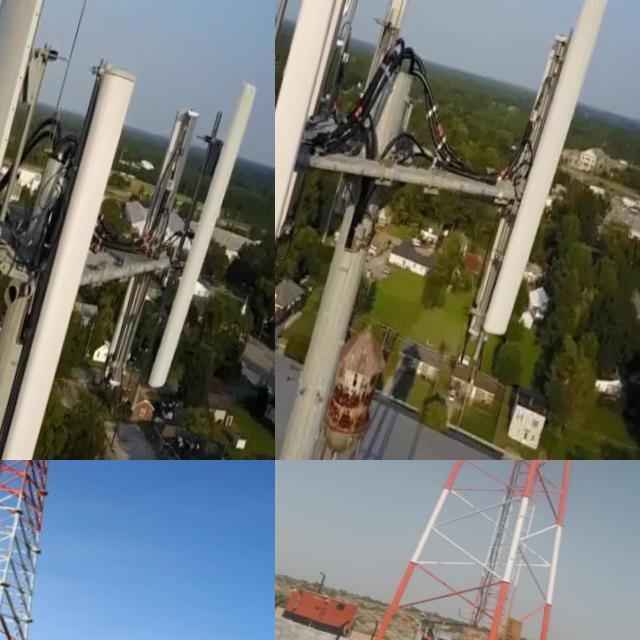GSM Antenna: (0, 42, 145, 460), (479, 0, 610, 346), (144, 60, 258, 387), (275, 0, 366, 398), (471, 14, 574, 349), (0, 0, 68, 460), (107, 83, 203, 376), (275, 0, 362, 244)
